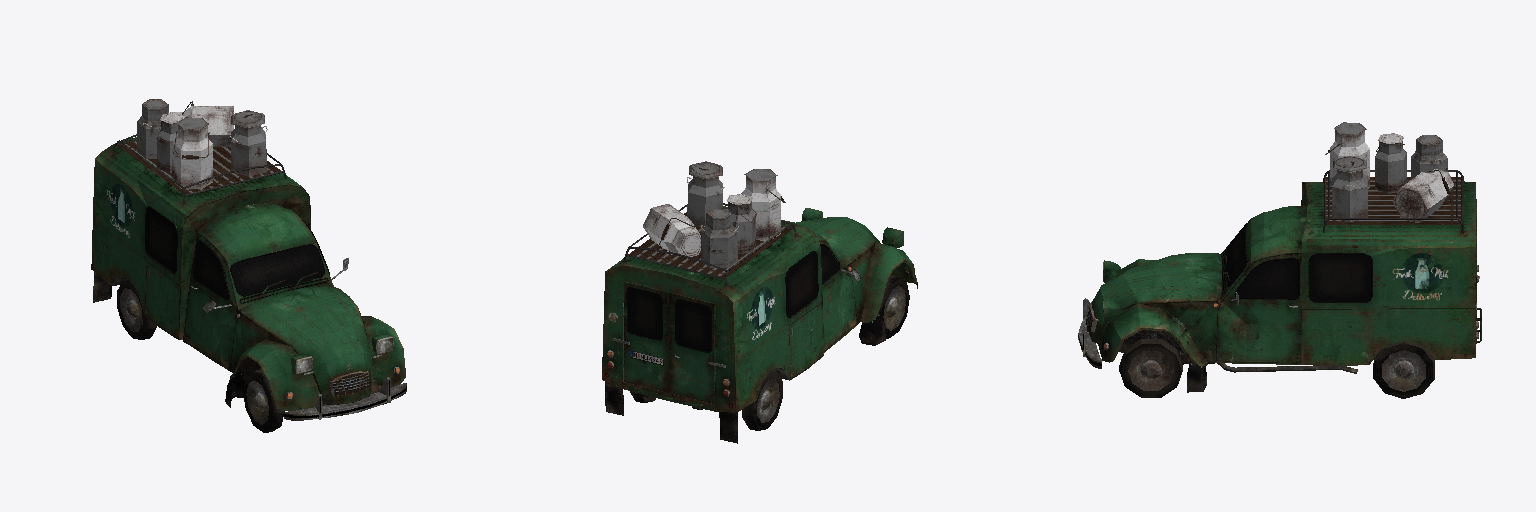
The picture shows the model from 3 angles: view 1: azimuth 30°, elevation 25°; view 2: azimuth 150°, elevation 25°; view 3: azimuth 270°, elevation 25°; orthographic projection.
Visible parts, largest first — view 1: Car_Body_Mesh.003; view 2: Car_Body_Mesh.003; view 3: Car_Body_Mesh.003.
Boxes of the visible parts, x1,y1,x2,y2 form: Car_Body_Mesh.003: [91, 99, 406, 432]; Car_Body_Mesh.003: [602, 161, 917, 443]; Car_Body_Mesh.003: [1078, 122, 1481, 398].
Bounding box in the file's own units: 0.6674 × 0.986 × 1.59.
1 materials, 1 textured.